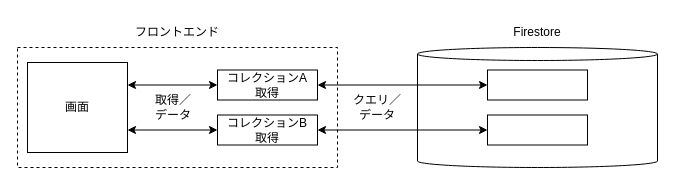
The diagram is 675 pixels wide and 185 high, and some of its shapes have lost their labels. The shapes that lost their labels are listed below. From the top down, each one's centre as x and y in pixels, then its label:
At pixel 537 84: "コレクションA".
At pixel 537 129: "コレクションB".
